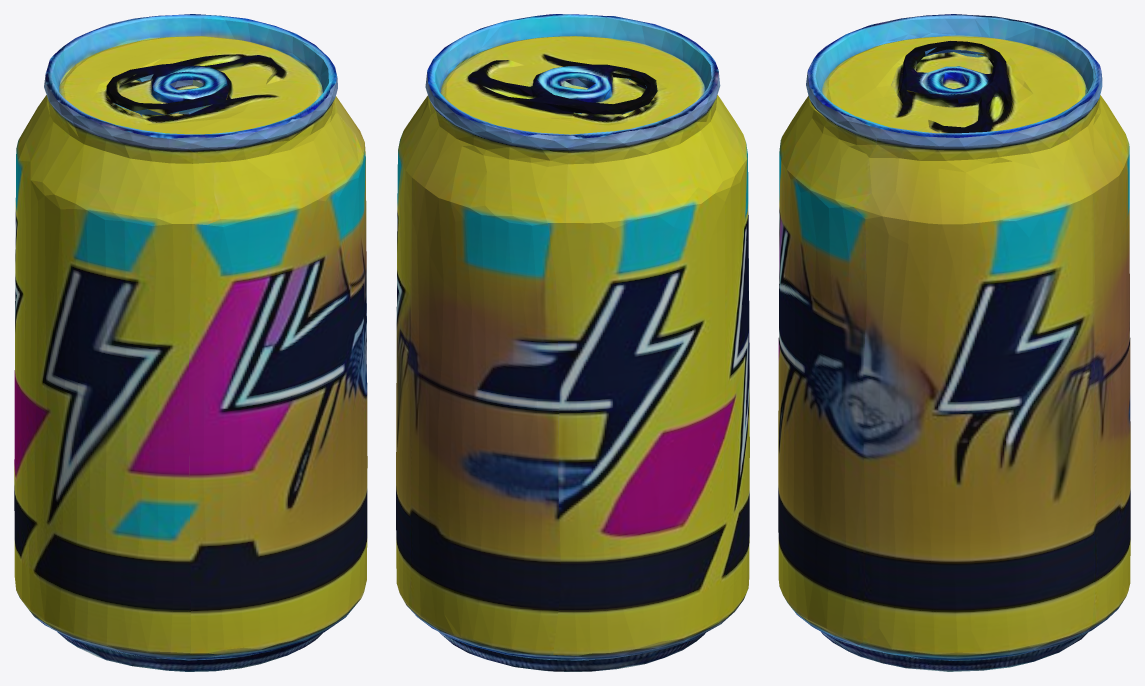
Rendered from energy_drink.glb.
3 views of the same model, side by side, from view 1: azimuth 30°, elevation 25°; view 2: azimuth 150°, elevation 25°; view 3: azimuth 270°, elevation 25° (orthographic).
Visible parts, largest first — view 1: tmpa_6gok35.ply; view 2: tmpa_6gok35.ply; view 3: tmpa_6gok35.ply.
Boxes of the visible parts, box(x1,y1,x2,y2) form: tmpa_6gok35.ply: box(14, 14, 367, 671); tmpa_6gok35.ply: box(396, 14, 749, 671); tmpa_6gok35.ply: box(778, 14, 1130, 671).
Size of the model in its own units: 1.19 by 1.99 by 1.18.
Materials: 1 (1 with a texture image).
